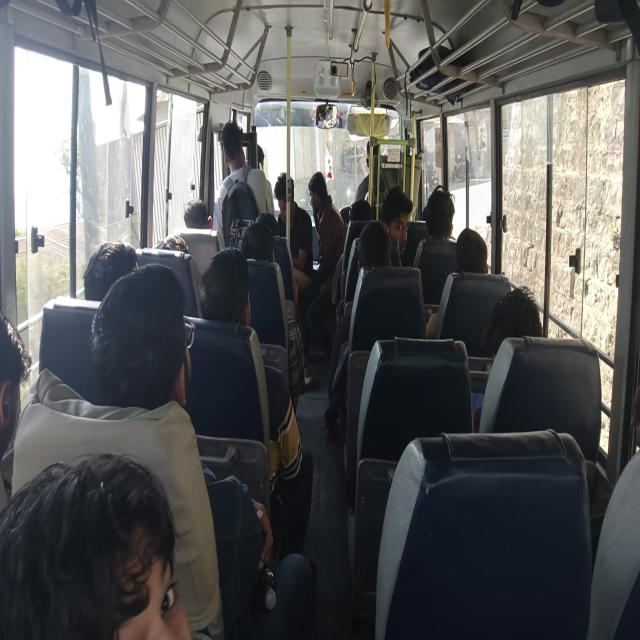person: (35, 439, 162, 640), (91, 269, 185, 412), (80, 229, 149, 300), (0, 347, 42, 462), (488, 278, 546, 361), (196, 241, 250, 323), (458, 228, 499, 304), (359, 220, 399, 288), (426, 190, 471, 239), (304, 162, 345, 214), (216, 116, 247, 170), (178, 189, 209, 239), (278, 174, 306, 224), (242, 220, 274, 262), (390, 195, 419, 239)
